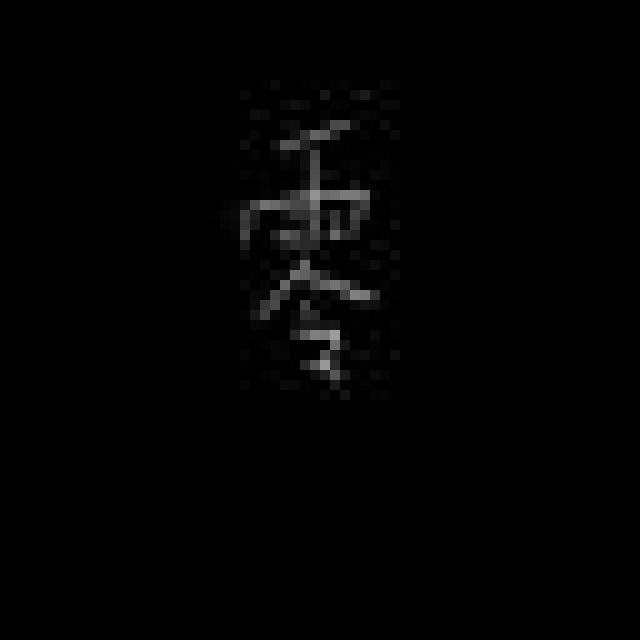0 -zero-: (224, 112, 389, 401)
